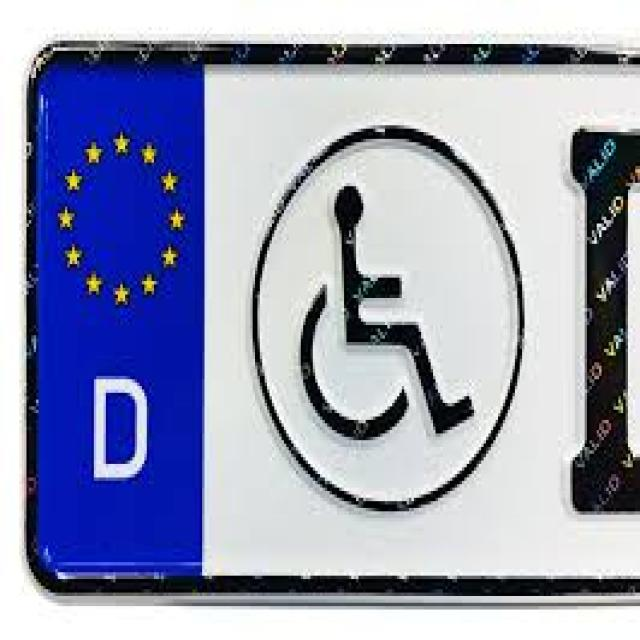car-handicap-placard: (300, 184, 474, 443)
